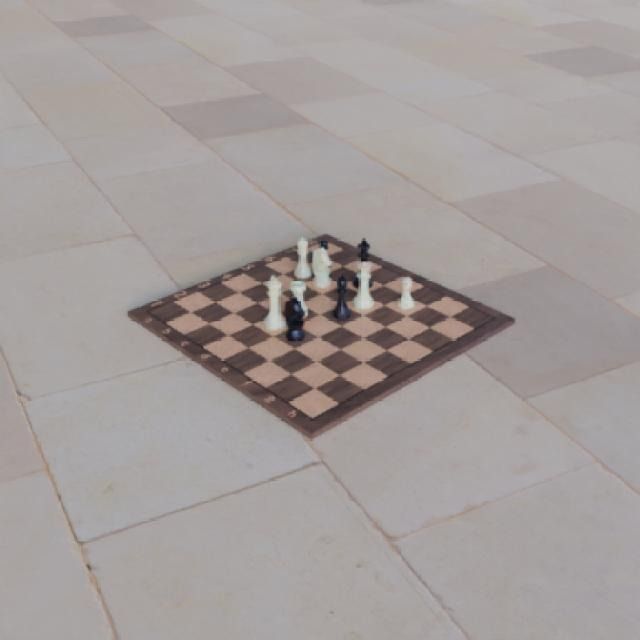black-bishop: (332, 273, 352, 321)
black-king: (352, 237, 374, 289)
black-knight: (283, 298, 307, 342)
black-pawn: (315, 238, 330, 261)
white-bishop: (290, 236, 311, 280)
white-king: (261, 274, 286, 330)
white-knight: (311, 246, 333, 289)
white-pawn: (396, 276, 416, 311)
white-queen: (352, 260, 375, 312)
white-rook: (289, 279, 311, 320)
